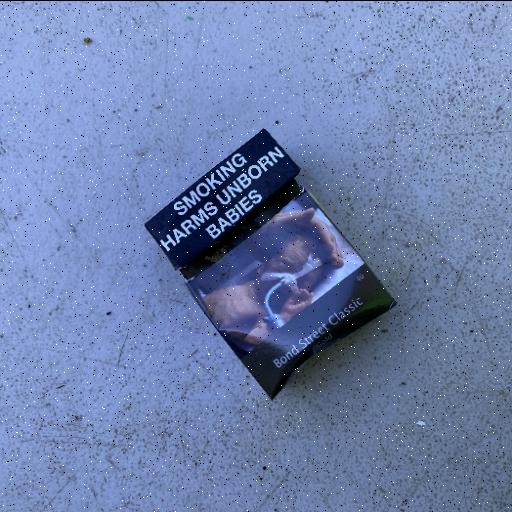Cardboard: (142, 126, 398, 402)
